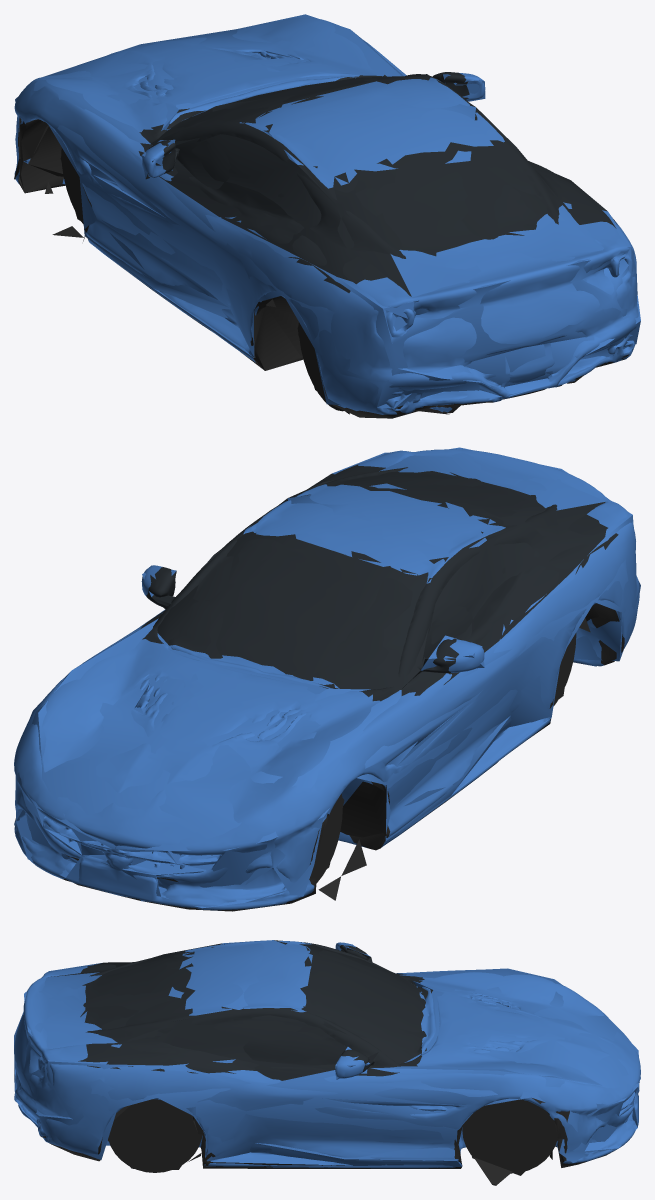
The model's file is ferrari-portofino.glb.
3 renders of one model, top to bottom at view 1: azimuth 30°, elevation 25°; view 2: azimuth 150°, elevation 25°; view 3: azimuth 270°, elevation 25°, orthographic. The views are drawn at different scales.
Parts seen in each view (by area): view 1: body, far; view 2: body, far; view 3: body, far.
Boxes of the visible parts, <box> form: body: <box>14,17,638,418</box>; far: <box>14,14,640,414</box>; body: <box>14,449,639,911</box>; far: <box>14,447,640,908</box>; body: <box>14,940,640,1185</box>; far: <box>14,940,640,1184</box>.
Bounding box in the file's own units: 2.19 × 1.37 × 4.66.
